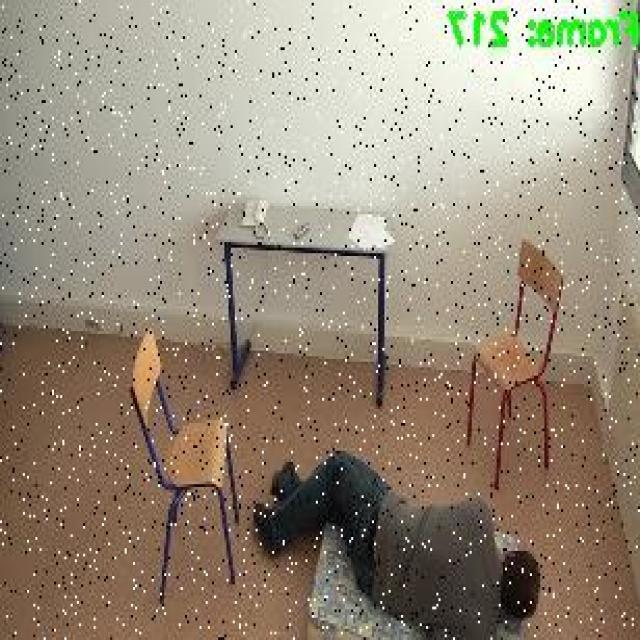fall: (247, 442, 551, 638)
